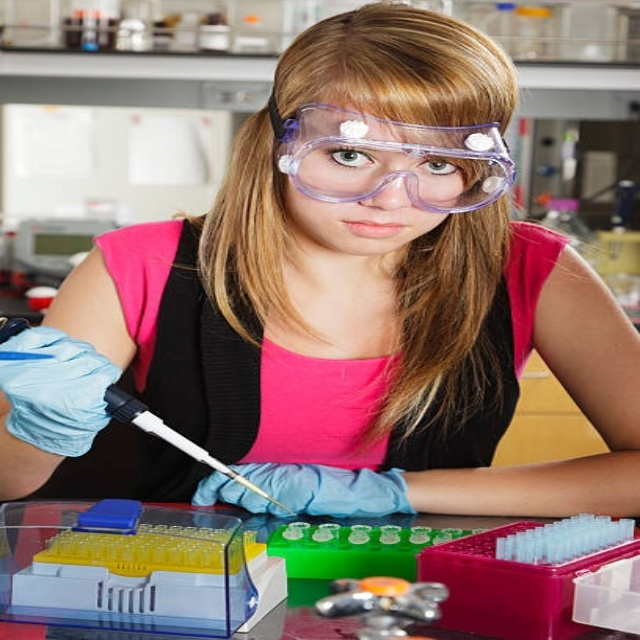Gafas: (272, 99, 513, 213)
Guantes: (1, 324, 124, 458), (192, 463, 416, 519)
Sin_mascara: (329, 214, 413, 251)
